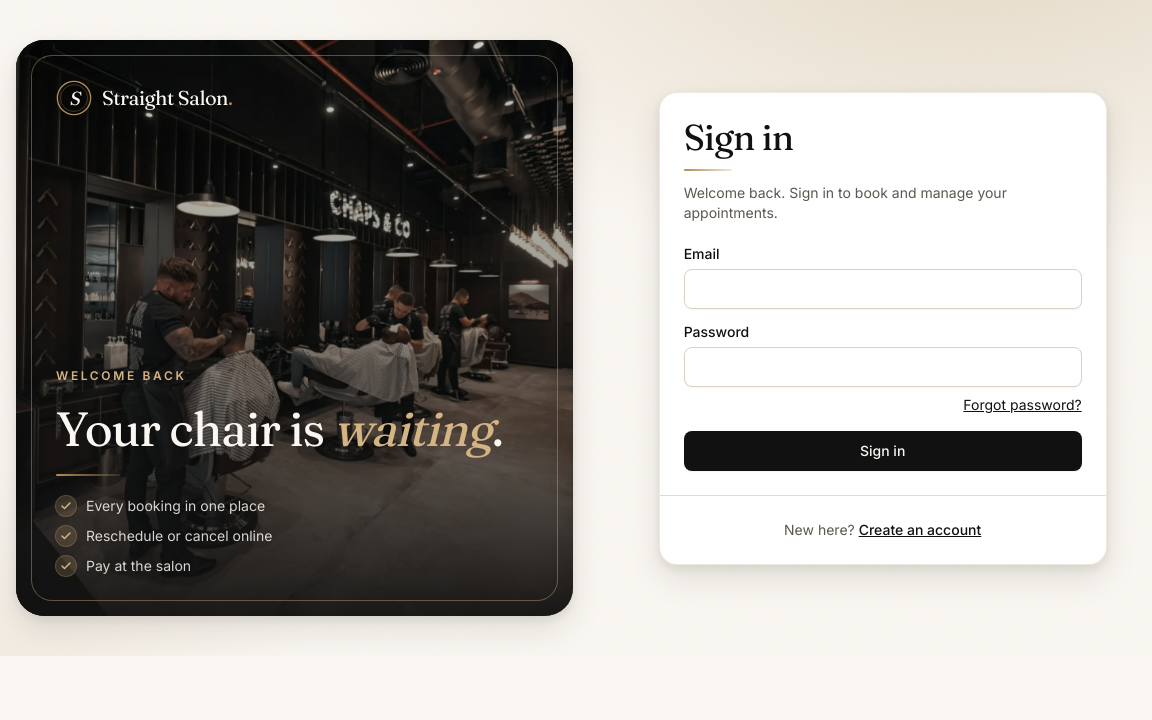
login page (API-002, 05 §5) › wrong credentials: one generic message (06 §2)
This screenshot has width=1152, height=720.
In the field labelled "Email": (883, 288) [684, 268, 1082, 308], type "ananya@example.com"
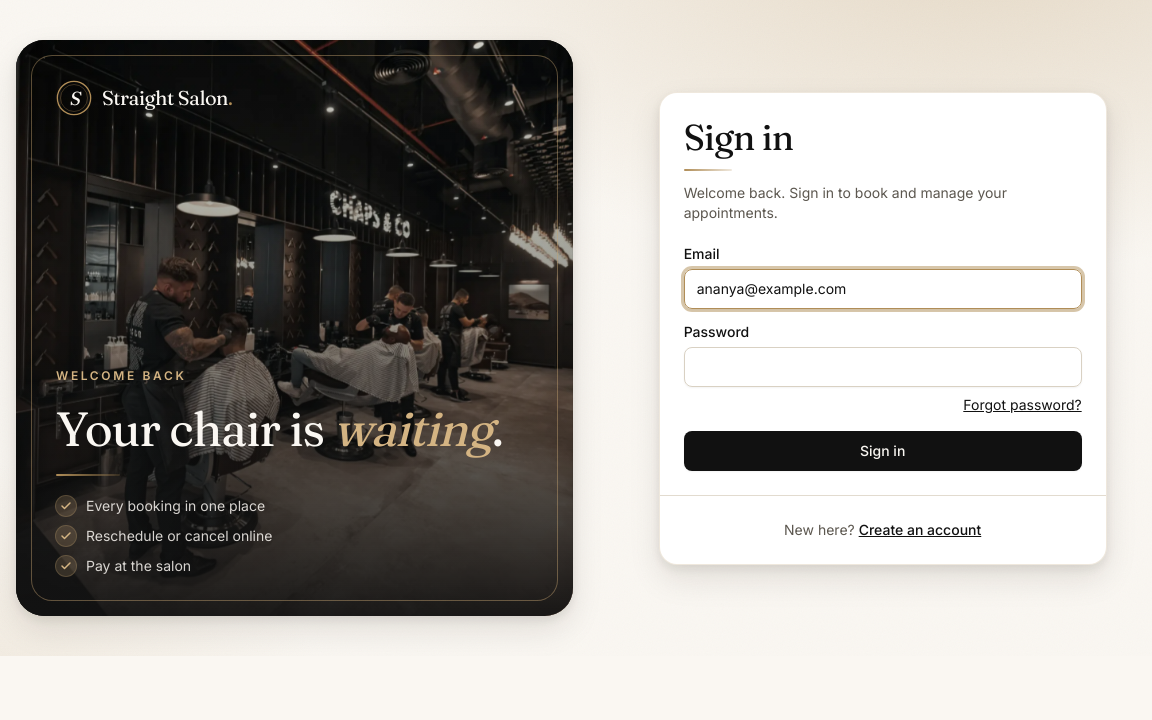
In the password field labelled "Password": (883, 366) [684, 346, 1082, 386], type "wrong-pass1"
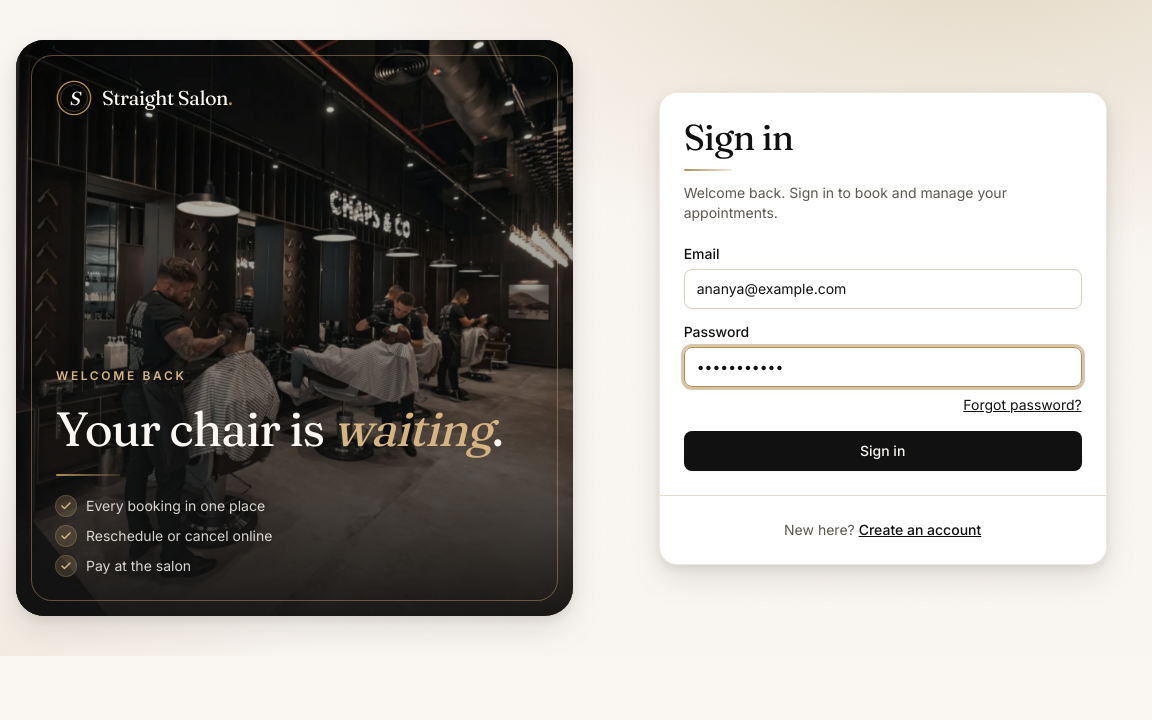
Click the button "Sign in": (883, 450) [684, 430, 1082, 470]
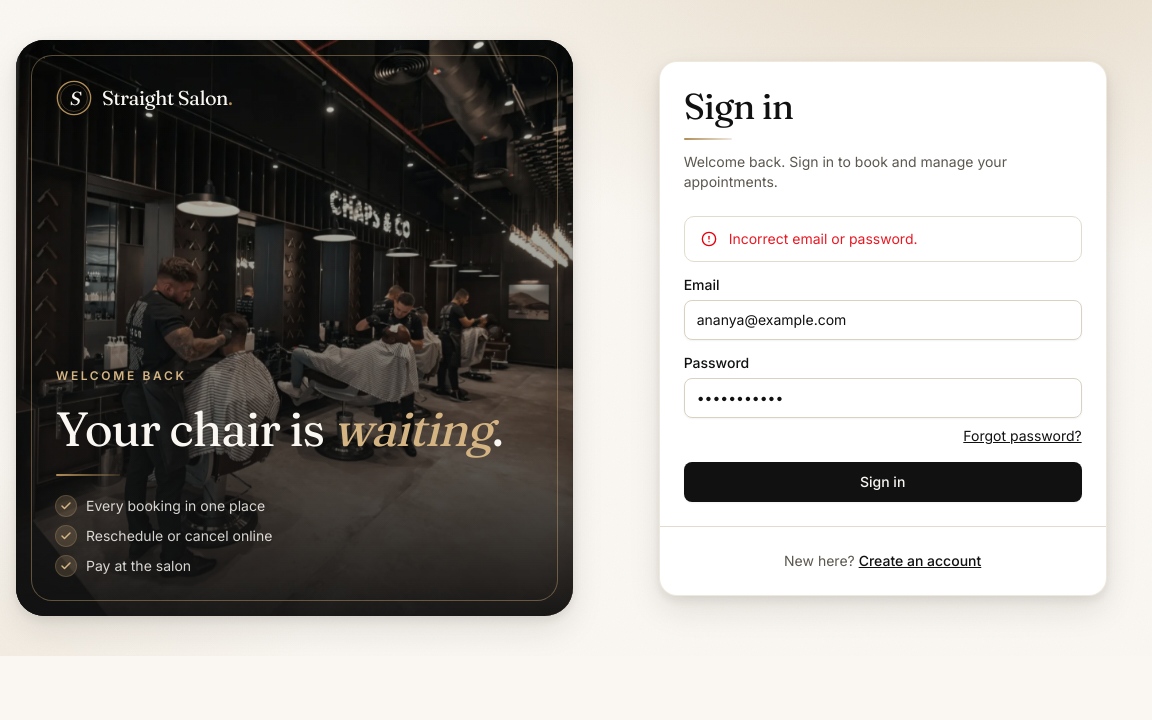
expect the message reads "Incorrect email or password.": met, box [729, 230, 918, 246]
